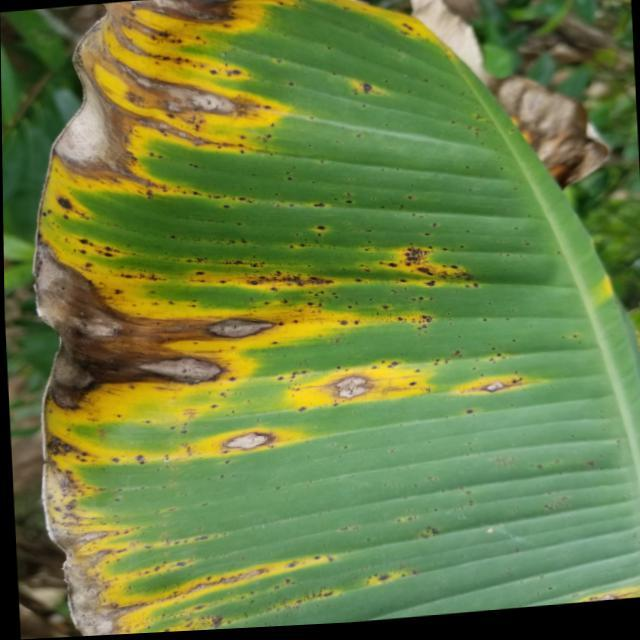Early_rust: (11, 0, 555, 618)
